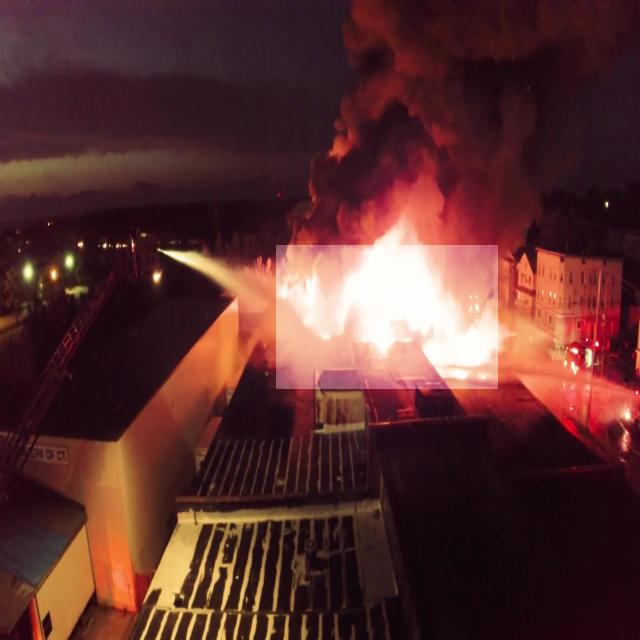Fire: (276, 206, 498, 389)
Smoke: (267, 0, 633, 245)
